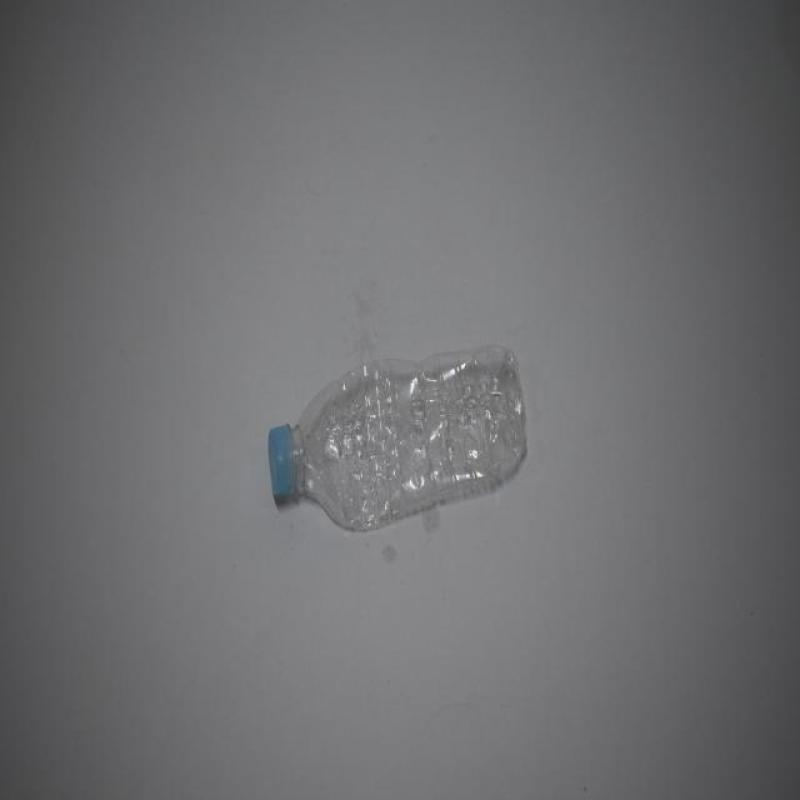botella: (268, 341, 528, 528)
